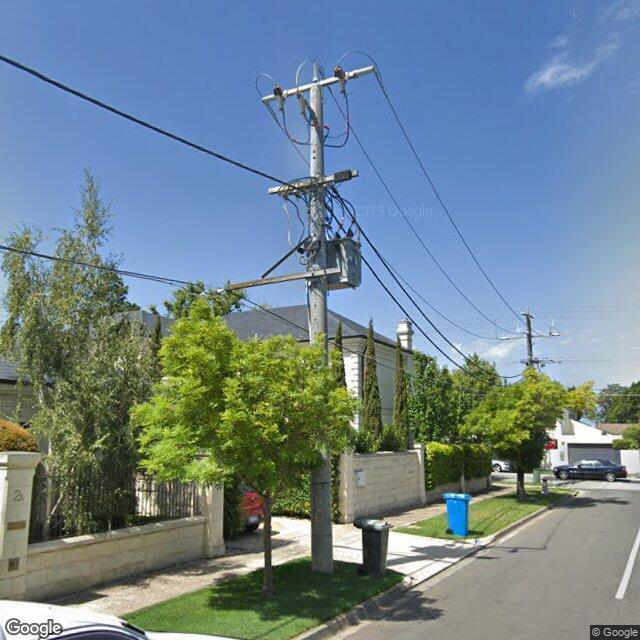HV-transmission: (259, 51, 376, 111), (499, 305, 561, 341)
concrete-pole: (310, 84, 333, 574)
crossarm: (225, 267, 340, 291), (267, 169, 361, 195), (287, 70, 356, 94), (510, 334, 550, 341)
timber-pole: (526, 313, 542, 485)
transformer: (297, 230, 363, 290)
